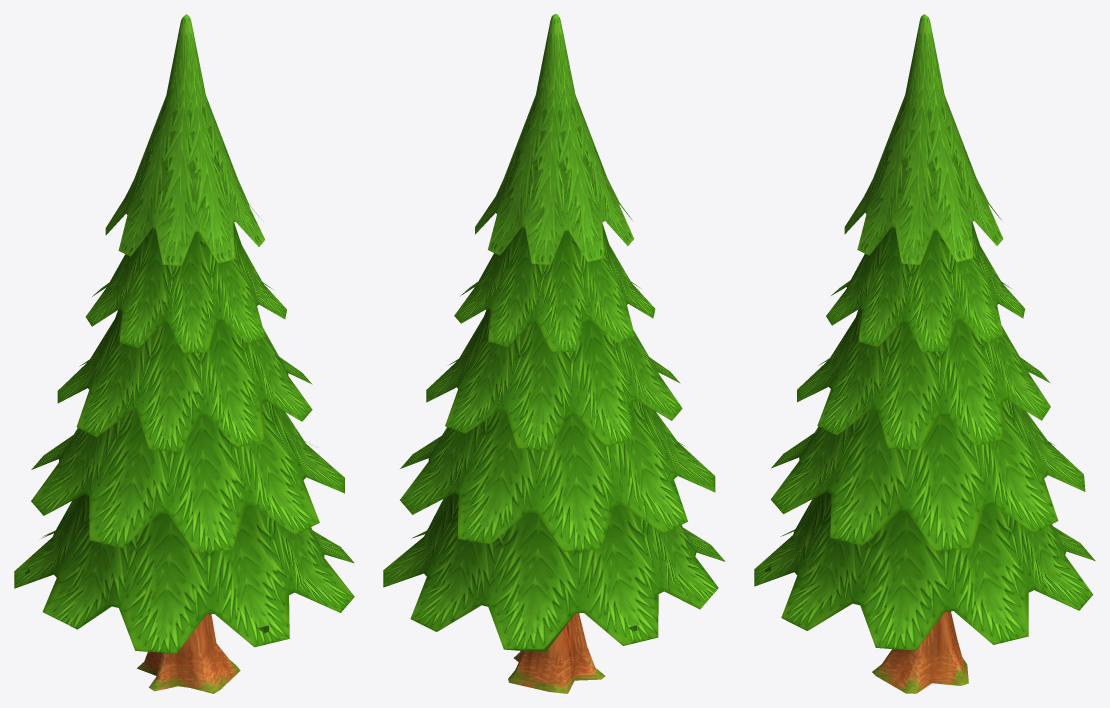
File: Tree05_4.FBX
3 views of the same model, side by side, from view 1: azimuth 30°, elevation 25°; view 2: azimuth 150°, elevation 25°; view 3: azimuth 270°, elevation 25° (orthographic).
Visible parts, largest first — view 1: Tree05_4_LOD0; view 2: Tree05_4_LOD0; view 3: Tree05_4_LOD0.
Part boxes in pixels (x1=…): Tree05_4_LOD0: x1=14, y1=14, x2=354, y2=693; Tree05_4_LOD0: x1=383, y1=14, x2=725, y2=693; Tree05_4_LOD0: x1=754, y1=14, x2=1095, y2=693.
Size of what is drawn, in the model's own units: 3.66 by 7.84 by 3.69.
